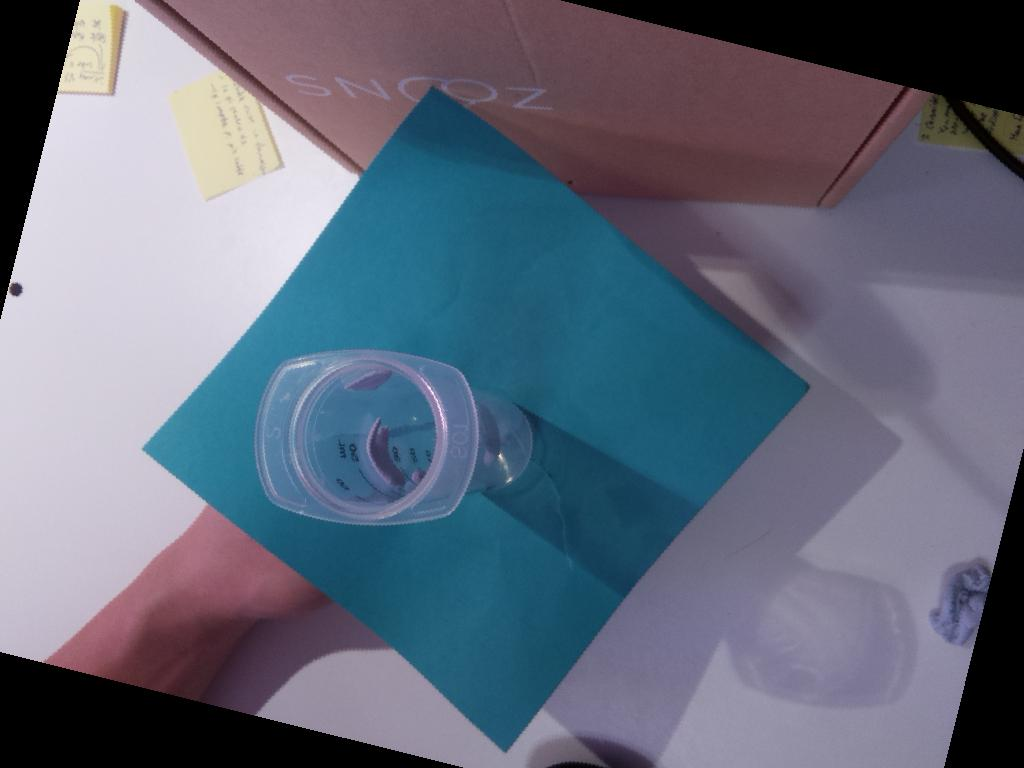dirty: (253, 348, 477, 526)
